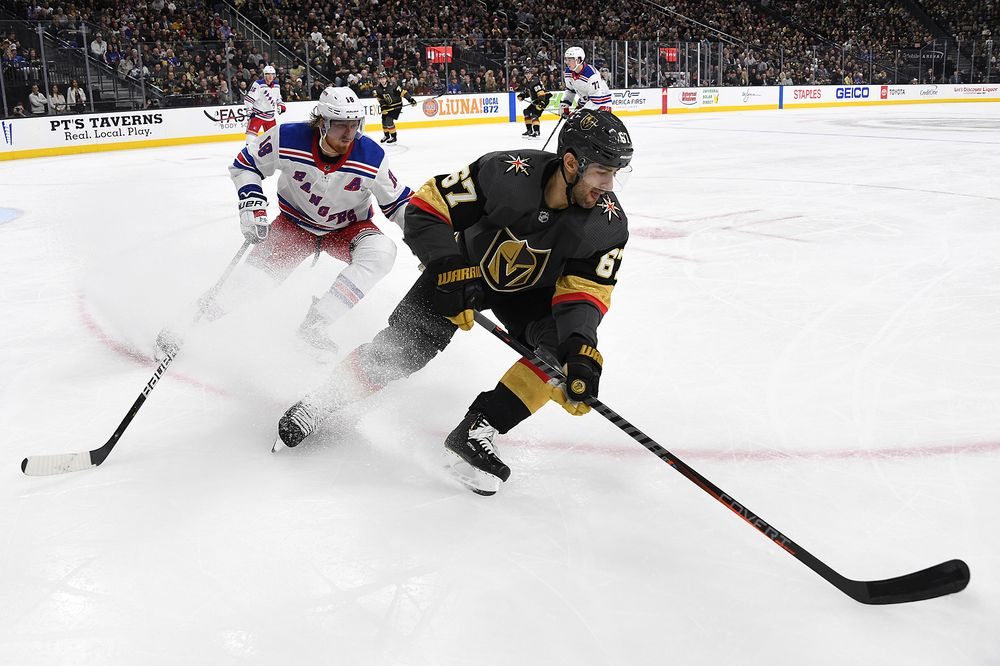geico: (833, 81, 872, 102)
